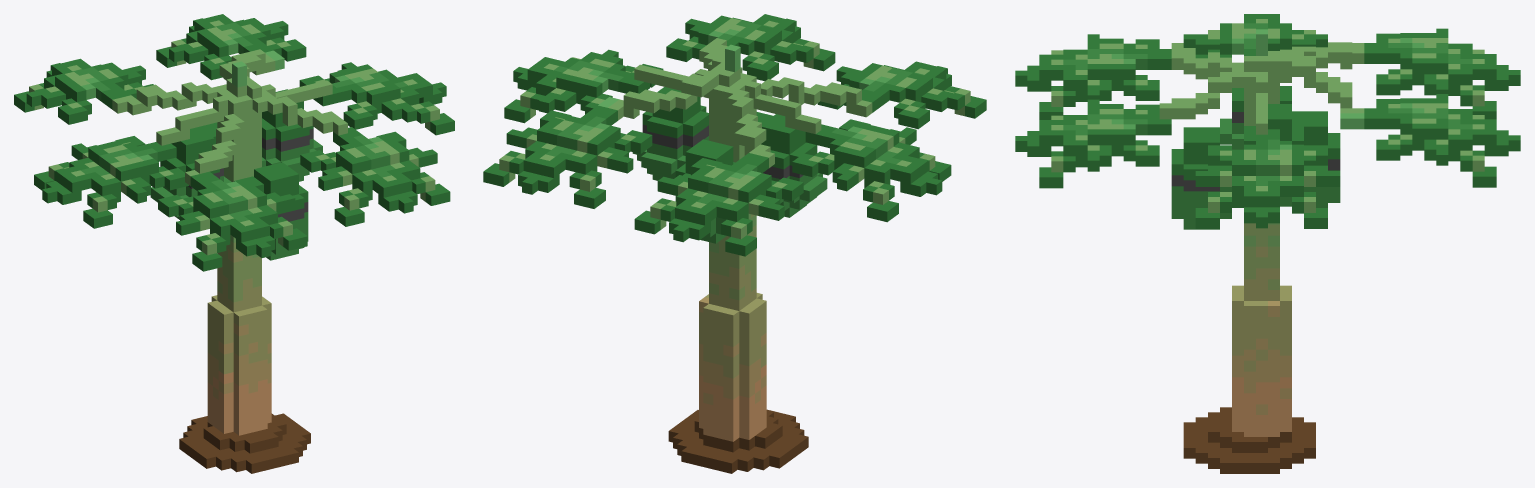
Rendered from 2_0 mamao.obj.
The picture shows the model from 3 angles, left to right: view 1: azimuth 30°, elevation 25°; view 2: azimuth 150°, elevation 25°; view 3: azimuth 270°, elevation 25°; orthographic projection. The views are drawn at different scales.
Size of the model in its own units: 4.2 by 3.8 by 4.2.
1 material, 1 textured.
